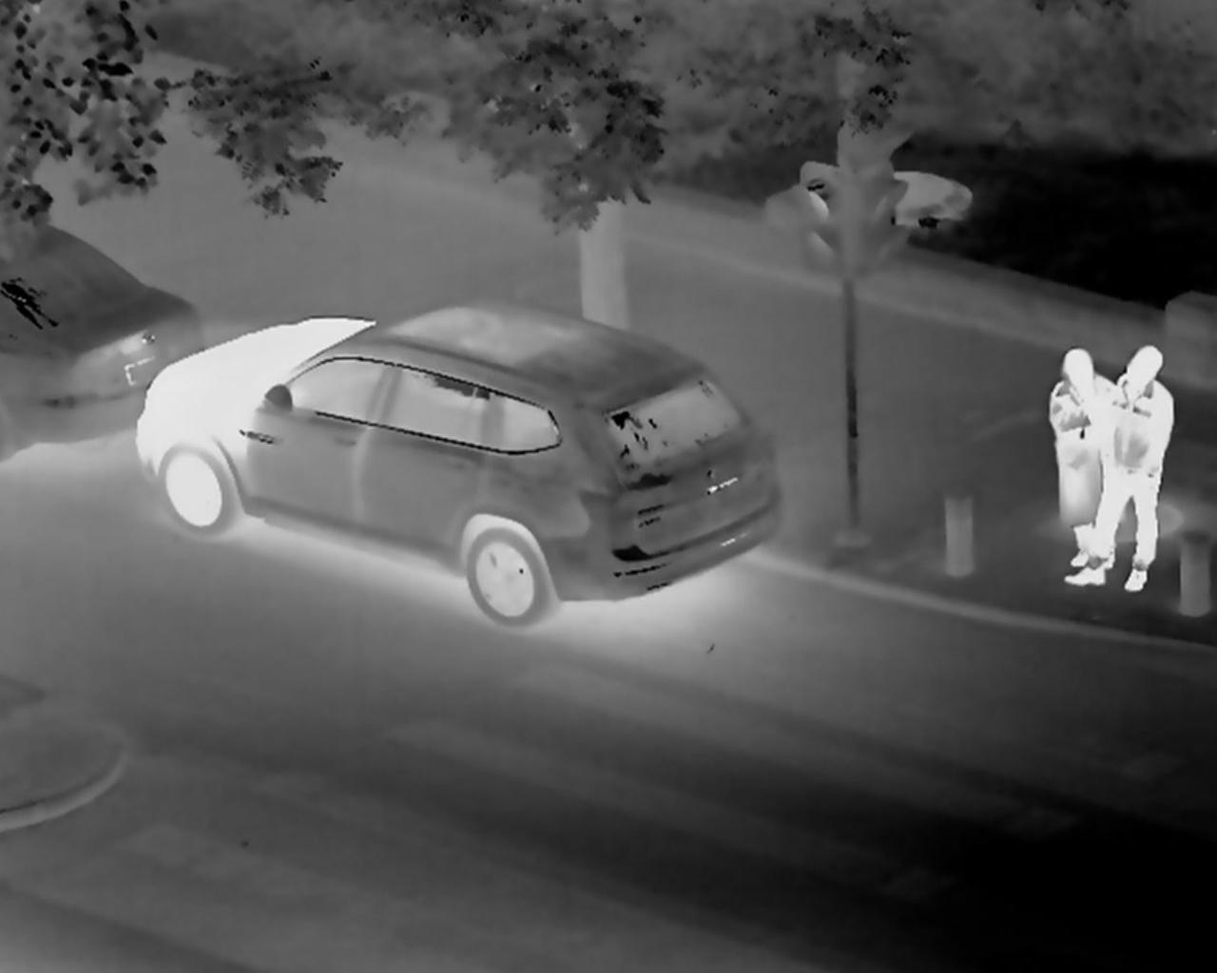person: (1098, 337, 1166, 598), (1056, 345, 1101, 557)
